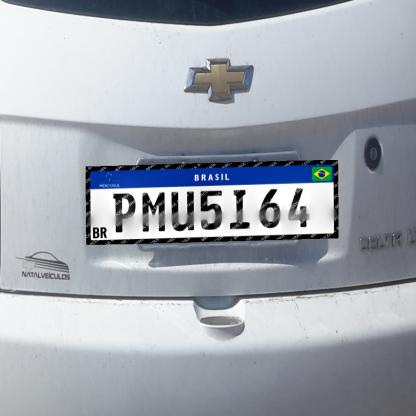PlacaM: (86, 160, 338, 245)
